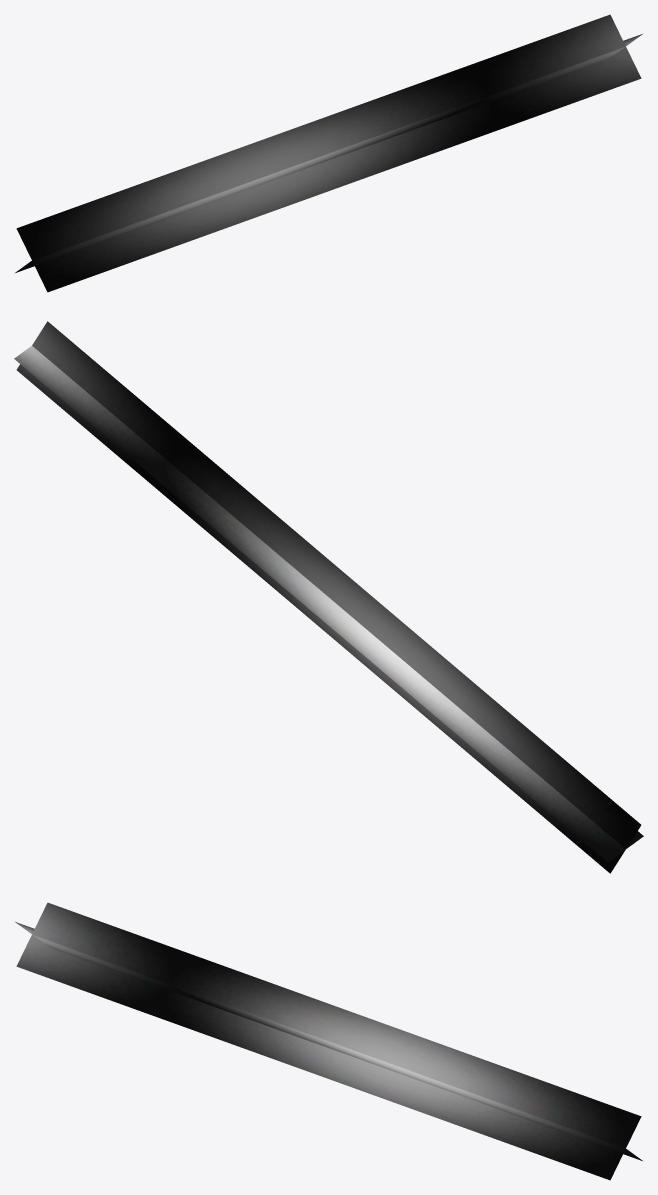
File: vfx_kurp_0764.dae
3 views of the same model, one above another, from view 1: azimuth 30°, elevation 25°; view 2: azimuth 210°, elevation 25°; view 3: azimuth 270°, elevation 25° (orthographic).
Visible parts, largest first — view 1: vfx_kurp_0764; view 2: vfx_kurp_0764; view 3: vfx_kurp_0764.
Part boxes in pixels (x1=…): vfx_kurp_0764: x1=15, y1=14, x2=642, y2=292; vfx_kurp_0764: x1=14, y1=321, x2=643, y2=873; vfx_kurp_0764: x1=15, y1=902, x2=642, y2=1180.
Size of the model in its own units: 1.01 by 1.57 by 1.15.
1 material, 1 textured.
